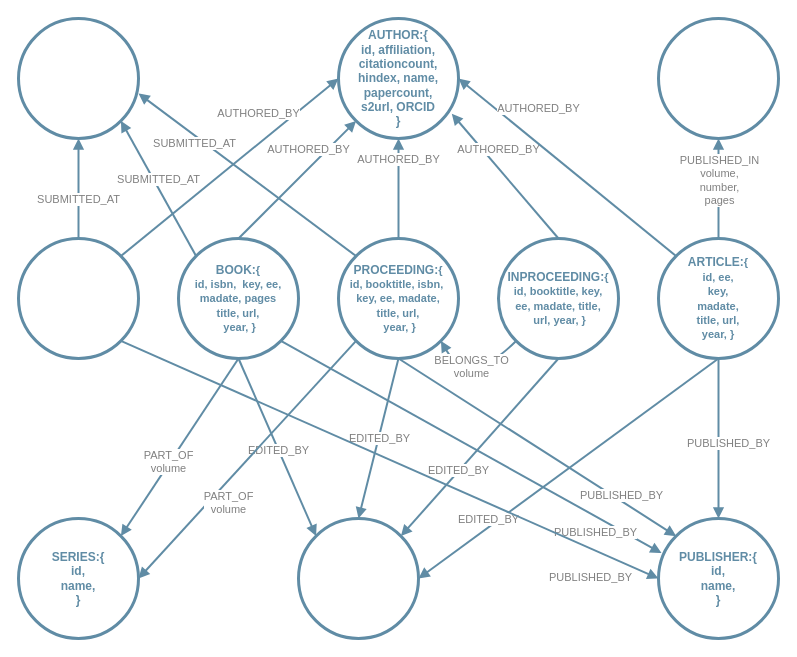
Image size: 797x657. Some labels were removed from this diagram. Each missing label, with the box of its shape:
EDITOR:{ id, name, }: (296, 516, 420, 640)
JOURNAL:{ id, name, }: (656, 16, 780, 140)
PhdTHESIS: { id, key, ee, madate, title, year, }: (16, 236, 140, 360)
SCHOOL:{ id, name, }: (16, 16, 140, 140)
